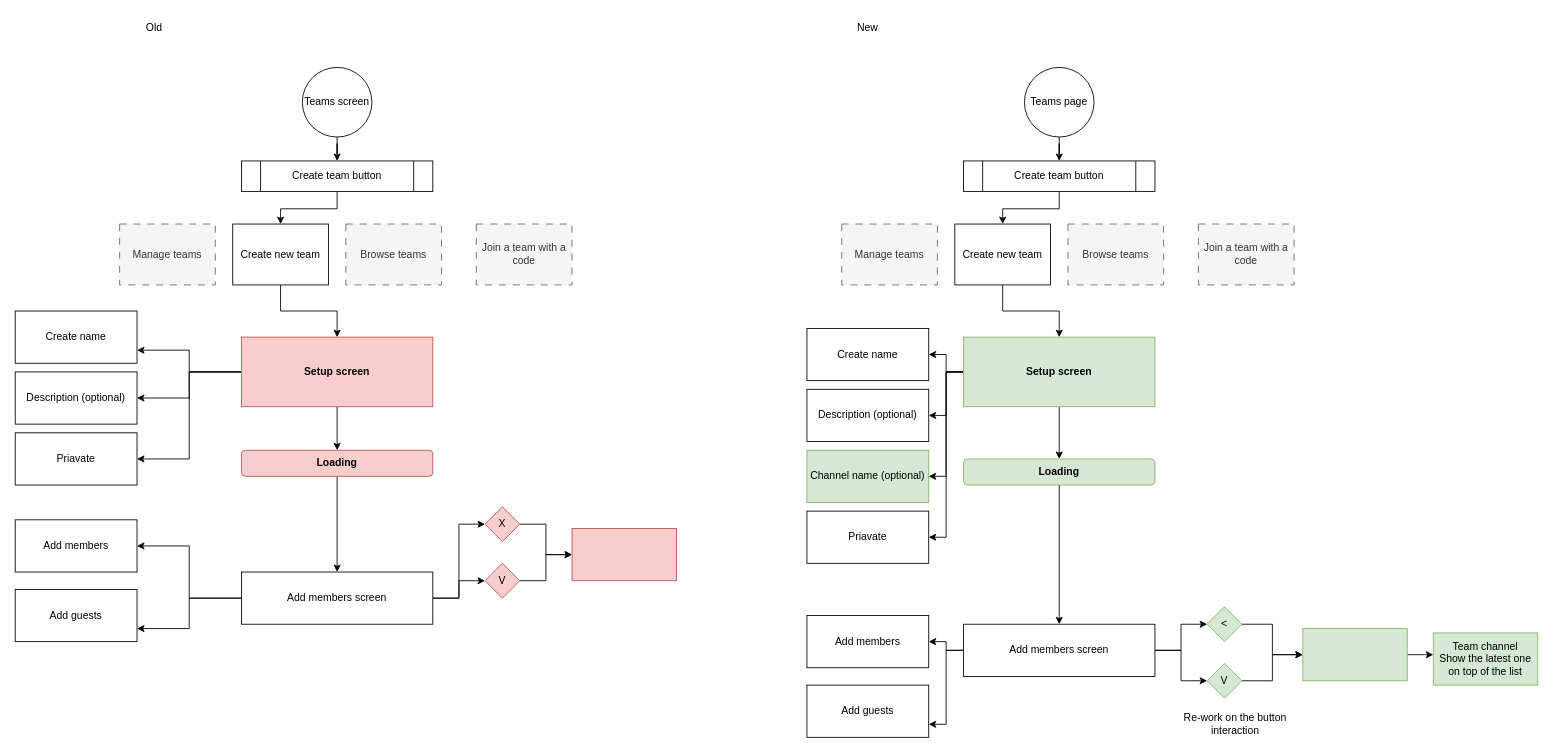
The diagram is 1553 pixels wide and 753 high, and some of its shapes have lost their labels. Each missing label, with the box of its shape:
Notification: (1302, 628, 1407, 681)
Teams channel (need re-organize the structure of list): (571, 528, 676, 581)
